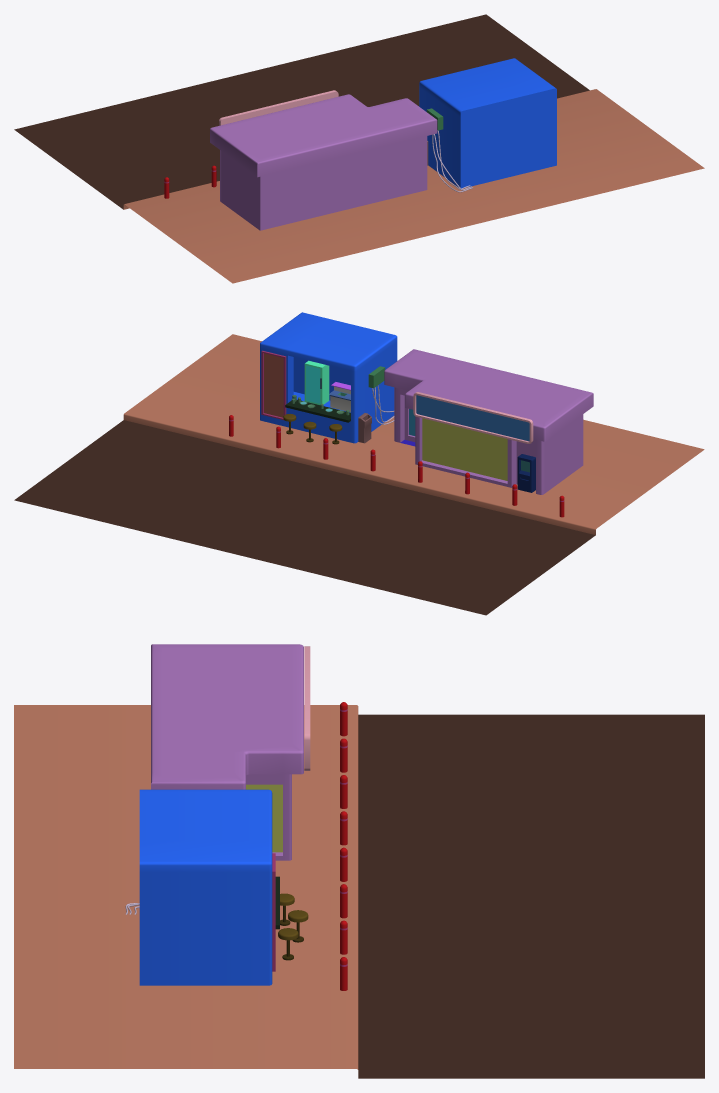
Rendered from BasicMap.fbx.
3 views of the same model, one above another, from view 1: azimuth 30°, elevation 25°; view 2: azimuth 150°, elevation 25°; view 3: azimuth 270°, elevation 25° (orthographic). The views are drawn at different scales.
Visible parts, largest first — view 1: Street, Building2, Building1; view 2: Street, Building2, Building1; view 3: Street, Building1, Building2.
Boxes of the visible parts, <box> form: Street: <box>14,14,704,283</box>; Building2: <box>210,90,437,230</box>; Building1: <box>419,58,556,192</box>; Street: <box>14,334,704,615</box>; Building2: <box>384,349,593,494</box>; Building1: <box>260,312,397,444</box>; Street: <box>14,702,704,1078</box>; Building1: <box>125,789,308,985</box>; Building2: <box>151,644,310,860</box>.
Size of the model in its own units: 28.2 by 4.78 by 22.62.
